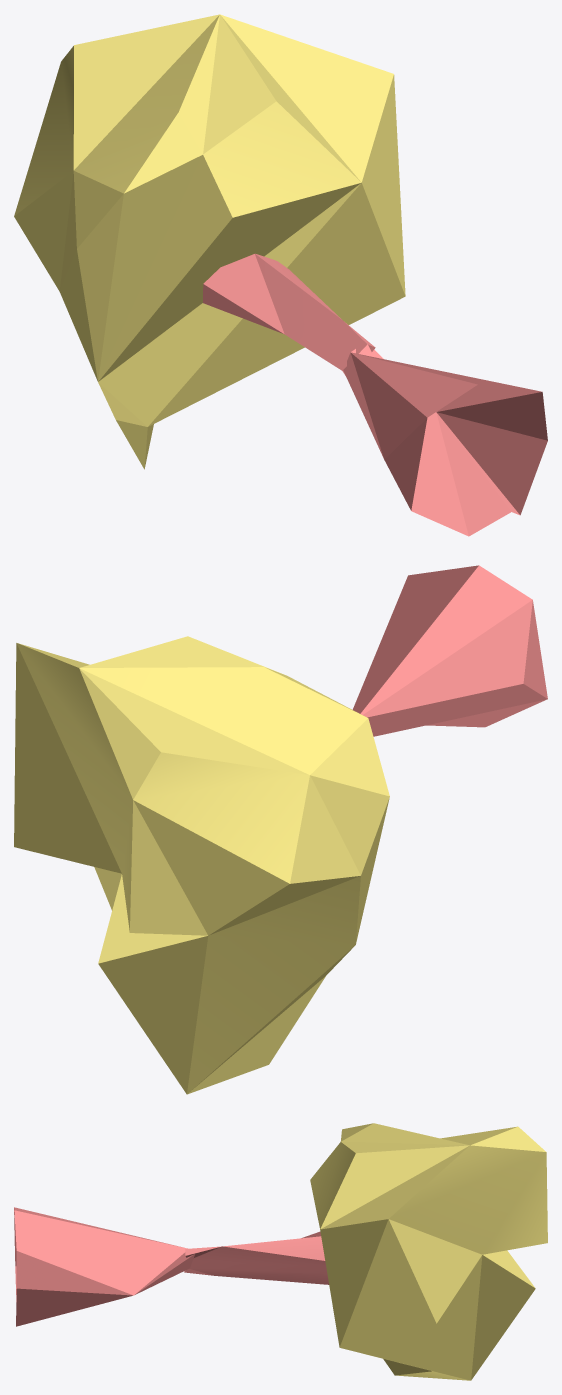
The model's file is FranTreeLOD.FBX.
The picture shows the model from 3 angles, top to bottom: view 1: azimuth 30°, elevation 25°; view 2: azimuth 150°, elevation 25°; view 3: azimuth 270°, elevation 25°; orthographic projection. The views are drawn at different scales.
Parts seen in each view (by area): view 1: Group51640; view 2: Group51640; view 3: Group51640.
Part boxes in pixels (<box>): Group51640: <box>14,14,547,536</box>; Group51640: <box>14,565,547,1094</box>; Group51640: <box>14,1123,547,1380</box>.
Size of the model in its own units: 735 by 805 by 1418.
